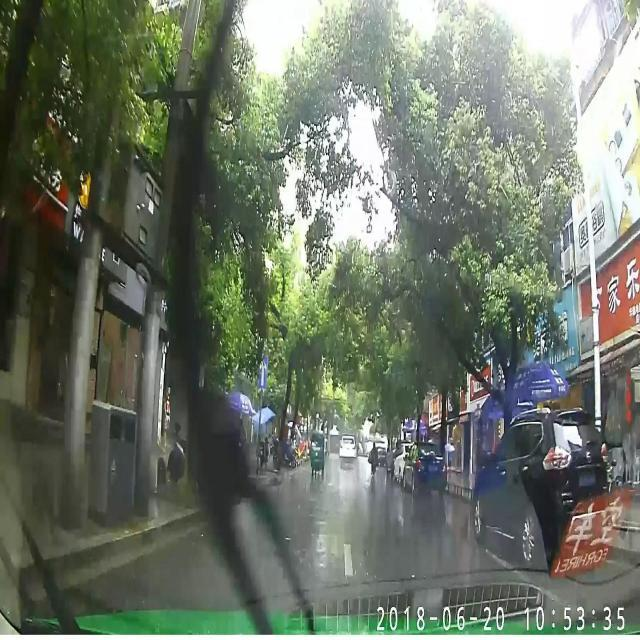car: (470, 408, 602, 564), (402, 444, 450, 498), (338, 436, 358, 468), (392, 441, 406, 484)
